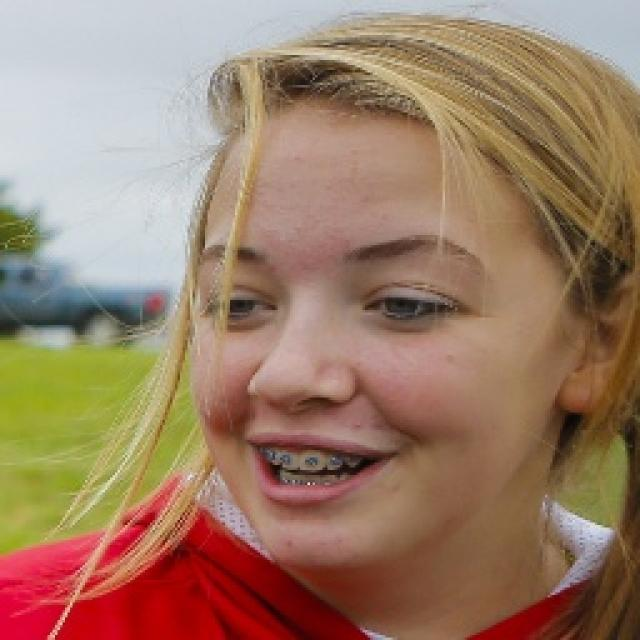earlobe: (556, 255, 640, 410)
